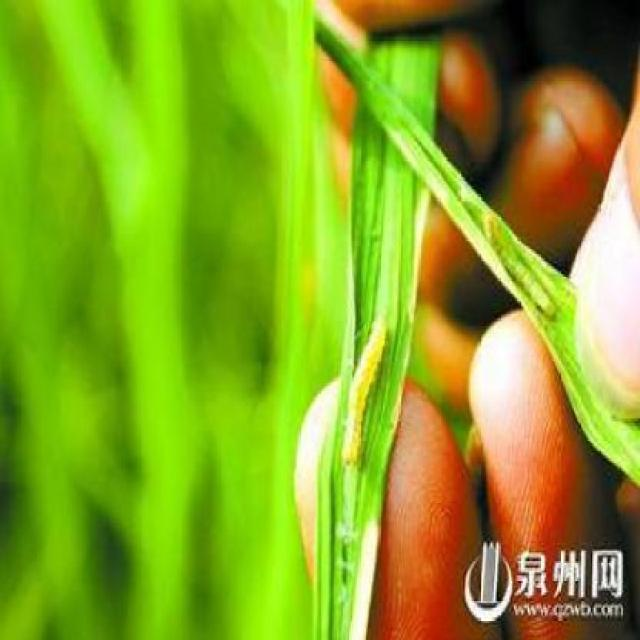leaf-folder: (320, 305, 417, 500), (462, 190, 570, 336)
